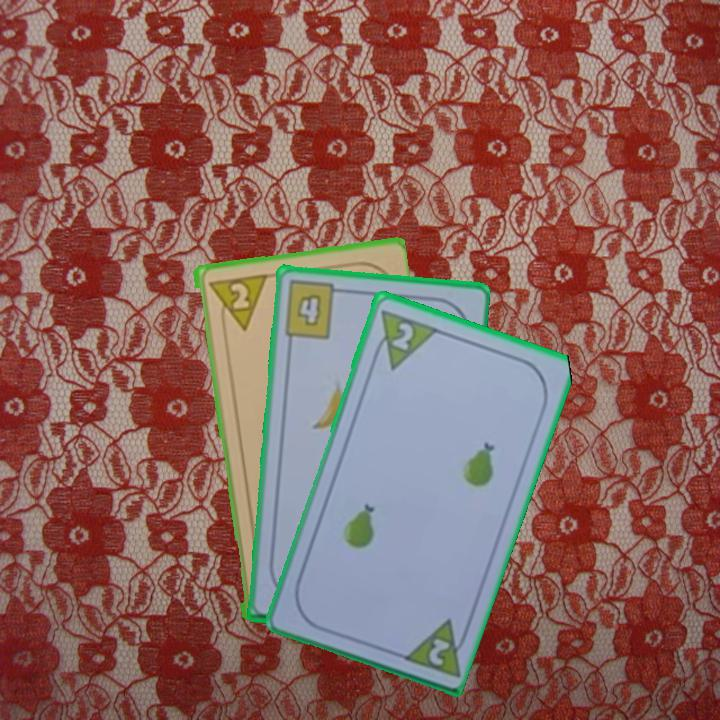2p: (367, 305, 440, 372), (204, 270, 268, 335), (424, 634, 453, 669)
4b: (280, 277, 348, 342)
